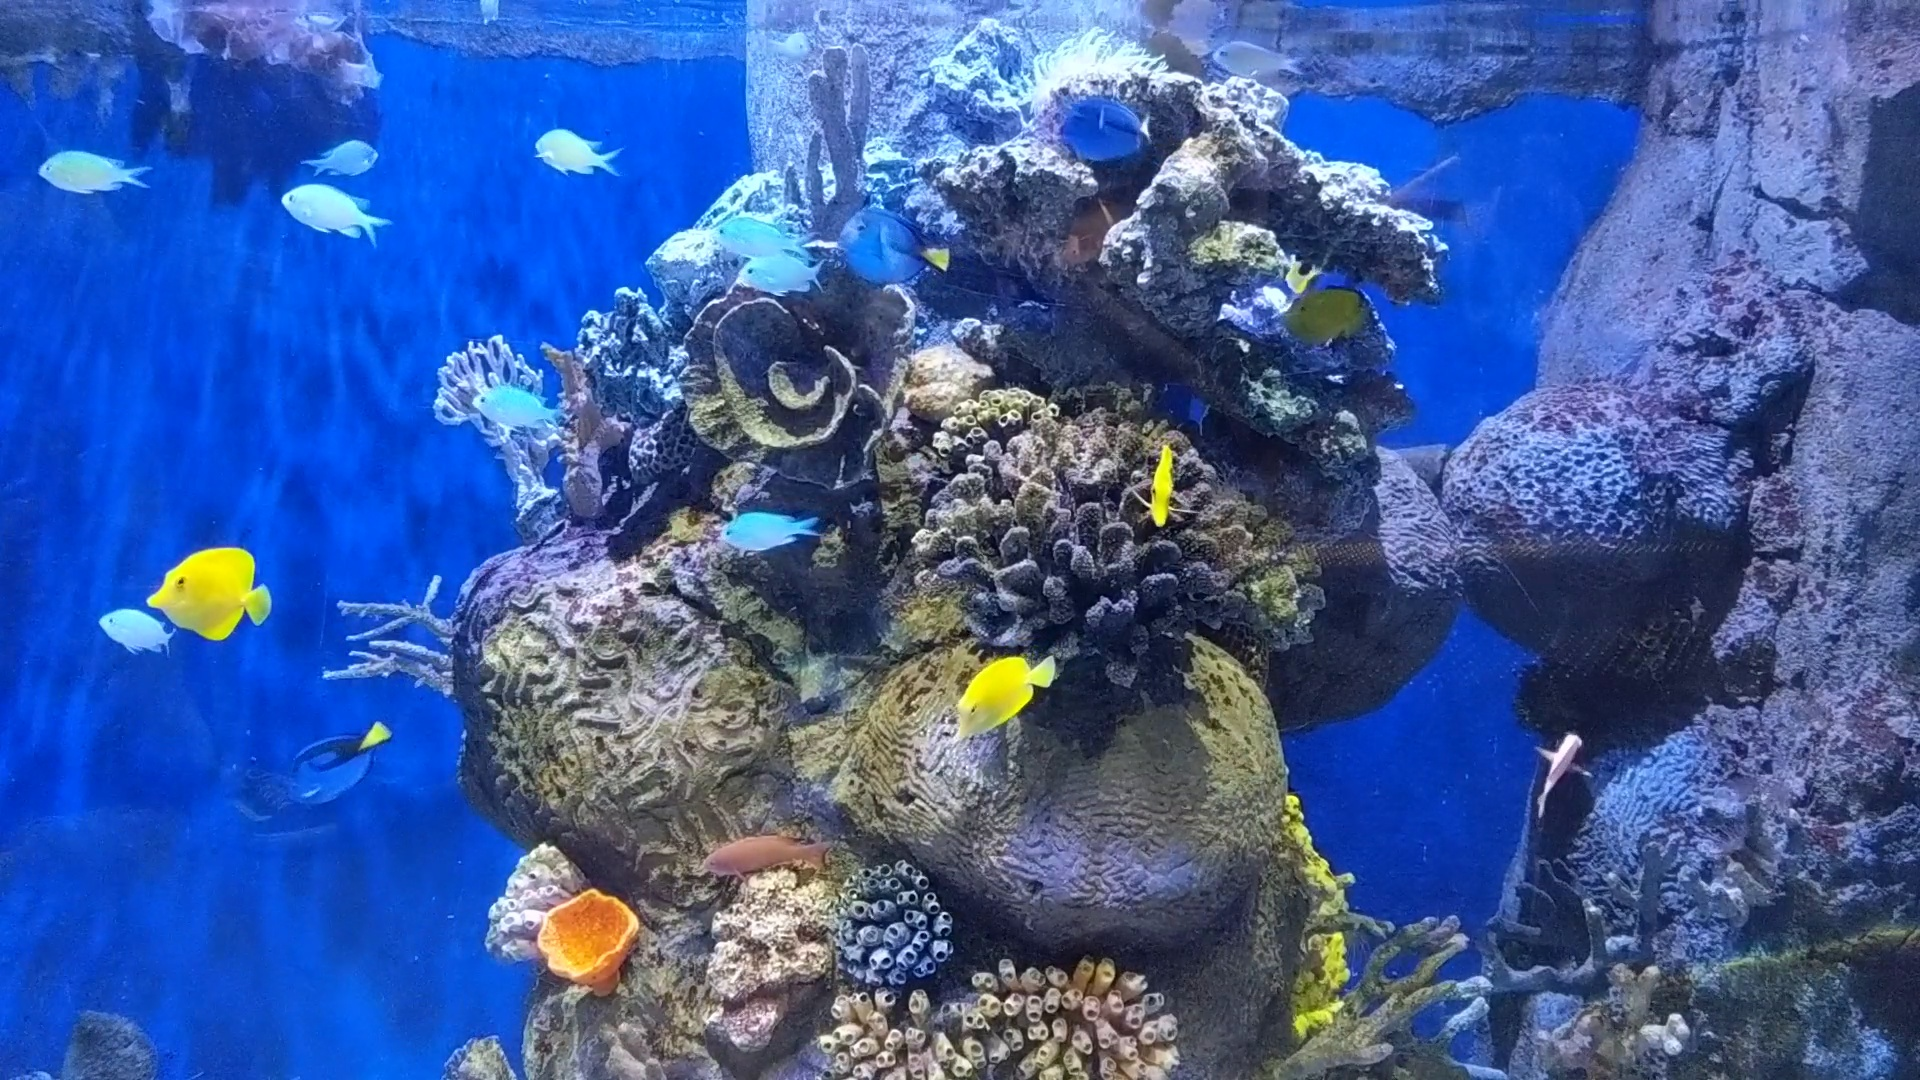blue tang surgeonfish: (270, 713, 402, 815), (827, 193, 957, 291), (1043, 79, 1163, 169)
damselfish: (266, 173, 414, 251), (512, 103, 632, 185), (450, 367, 580, 440), (717, 229, 833, 306), (25, 138, 152, 204), (709, 502, 835, 564), (702, 191, 811, 261), (287, 123, 384, 187), (1199, 33, 1305, 84), (94, 597, 174, 659)
saddle butterfly fish: (135, 534, 287, 666), (934, 644, 1058, 748), (1270, 255, 1378, 364)
